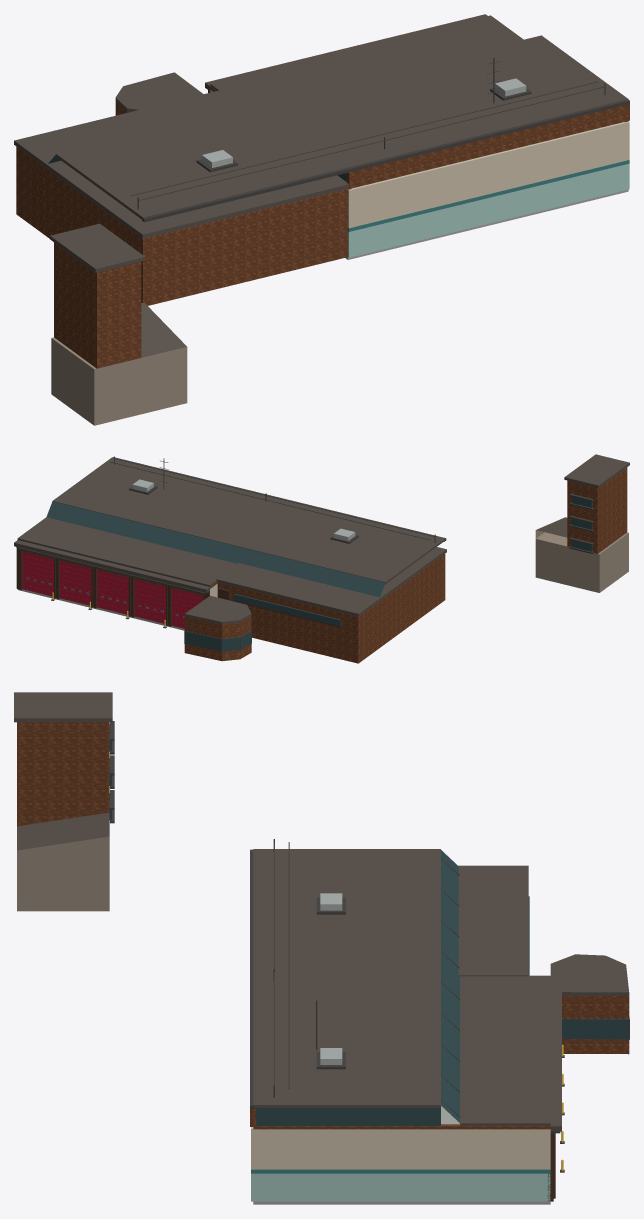
The model's file is station1.glb.
3 renders of one model, top to bottom at view 1: azimuth 30°, elevation 25°; view 2: azimuth 150°, elevation 25°; view 3: azimuth 270°, elevation 25°, orthographic. The views are drawn at different scales.
Parts seen in each view (by area): view 1: Static_Dark_warm_roof_membrane, Static_Warm_orange-buff_brick, Static_Bay_wall_upper_cream_block, Training tower shaft, Training tower base, Static_Bay_wall_lower_mint_block, Static_Graphite_painted_steel, Training tower shaft cap, Training tower practice sloping roof, Static_Bay_wall_dark_teal_belt, Training tower practice volume, Static_Galvanized_tracks_and_ductwork (+1 smaller); view 2: Static_Dark_warm_roof_membrane, Static_Warm_orange-buff_brick, Static_Smoked_ribbon_glazing, Training tower base, Training tower shaft, Static_Graphite_painted_steel, Static_Dark_brown_brickwork_and_reveals, Training tower shaft cap, Training tower practice volume, Static_Concrete_slab, Static_Galvanized_tracks_and_ductwork, Training tower practice sloping roof; view 3: Static_Dark_warm_roof_membrane, Static_Bay_wall_upper_cream_block, Static_Smoked_ribbon_glazing, Training tower shaft, Static_Bay_wall_lower_mint_block, Training tower base, Static_Warm_orange-buff_brick, Training tower shaft cap, Static_Graphite_painted_steel, Training tower practice sloping roof, Static_Bay_wall_dark_teal_belt, Static_Concrete_slab (+2 smaller).
Boxes of the visible parts, <box> form: Static_Dark_warm_roof_membrane: <box>14,14,628,238</box>; Static_Warm_orange-buff_brick: <box>16,86,629,305</box>; Static_Bay_wall_upper_cream_block: <box>210,89,629,228</box>; Training tower shaft: <box>54,242,141,368</box>; Training tower base: <box>51,337,187,425</box>; Static_Bay_wall_lower_mint_block: <box>348,163,629,257</box>; Static_Graphite_painted_steel: <box>131,57,629,222</box>; Training tower shaft cap: <box>50,223,145,272</box>; Training tower practice sloping roof: <box>141,302,186,357</box>; Static_Bay_wall_dark_teal_belt: <box>348,160,629,231</box>; Training tower practice volume: <box>141,348,186,413</box>; Static_Galvanized_tracks_and_ductwork: <box>202,78,526,167</box>; Static_Dark_warm_roof_membrane: <box>14,457,446,624</box>; Static_Warm_orange-buff_brick: <box>21,550,445,663</box>; Static_Smoked_ribbon_glazing: <box>46,501,385,651</box>; Training tower base: <box>536,532,628,592</box>; Training tower shaft: <box>567,467,627,553</box>; Static_Graphite_painted_steel: <box>16,456,446,651</box>; Static_Dark_brown_brickwork_and_reveals: <box>16,547,342,627</box>; Training tower shaft cap: <box>564,454,629,487</box>; Training tower practice volume: <box>535,532,567,580</box>; Static_Concrete_slab: <box>17,589,184,630</box>; Static_Galvanized_tracks_and_ductwork: <box>132,479,355,540</box>; Training tower practice sloping roof: <box>536,517,567,537</box>; Static_Dark_warm_roof_membrane: <box>253,849,629,1131</box>; Static_Bay_wall_upper_cream_block: <box>251,1127,550,1169</box>; Static_Smoked_ribbon_glazing: <box>256,850,629,1125</box>; Training tower shaft: <box>17,722,109,826</box>; Static_Bay_wall_lower_mint_block: <box>251,1173,550,1201</box>; Training tower base: <box>17,850,109,911</box>; Static_Warm_orange-buff_brick: <box>250,996,629,1129</box>; Training tower shaft cap: <box>14,692,112,722</box>; Static_Graphite_painted_steel: <box>250,839,629,1172</box>; Training tower practice sloping roof: <box>17,812,109,850</box>; Static_Bay_wall_dark_teal_belt: <box>251,1169,550,1173</box>; Static_Concrete_slab: <box>253,1106,550,1204</box>.
Bounding box in the file's own units: 54.91 × 13.09 × 42.13.
Materials: 20 (1 with a texture image).
